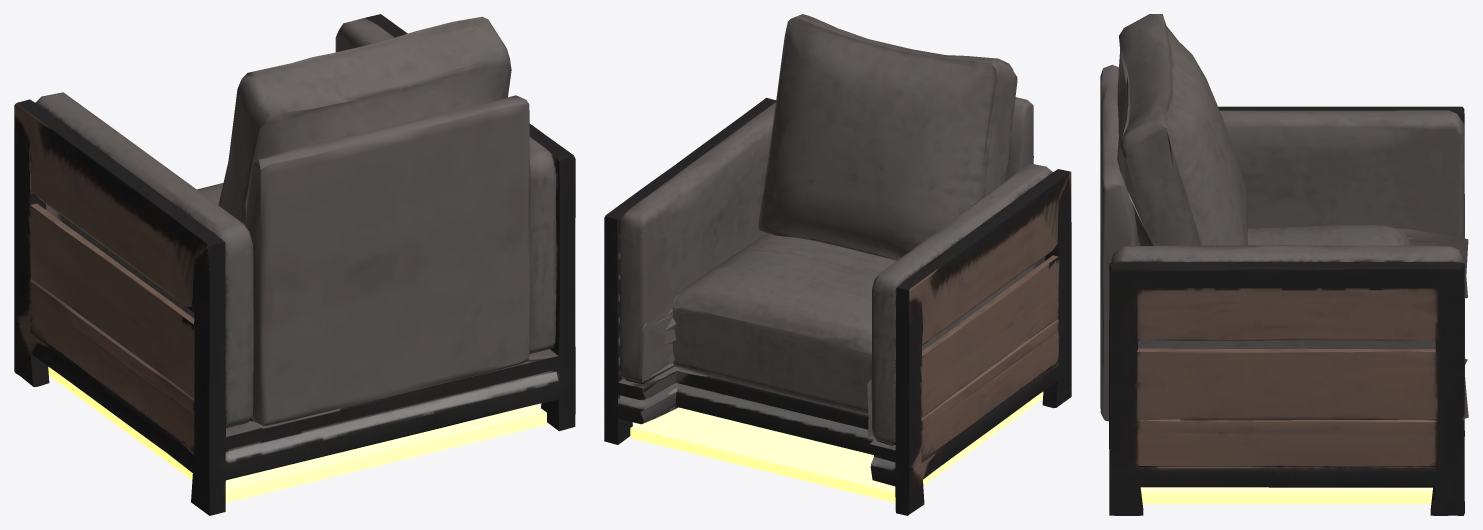
Rendered from seat_reading-chair_v2.glb.
3 views of the same model, side by side, from view 1: azimuth 30°, elevation 25°; view 2: azimuth 150°, elevation 25°; view 3: azimuth 270°, elevation 25° (orthographic). The views are drawn at different scales.
Visible parts, largest first — view 1: body, lights; view 2: body, lights; view 3: body, lights.
Boxes of the visible parts, x1,y1,x2,y2 form: body: [14, 14, 575, 515]; lights: [48, 366, 546, 502]; body: [604, 14, 1071, 515]; lights: [630, 392, 1043, 502]; body: [1100, 14, 1468, 515]; lights: [1140, 487, 1432, 504].
Bounding box in the file's own units: 0.87 × 0.9265 × 0.8317.
2 materials, 1 textured.
